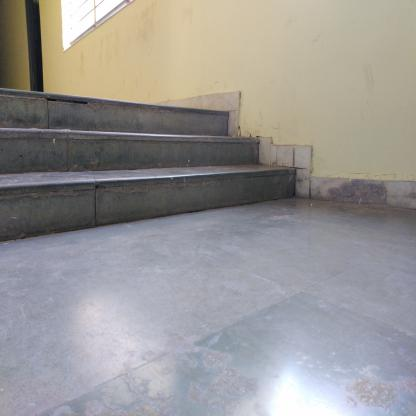stairs: (1, 99, 233, 226)
